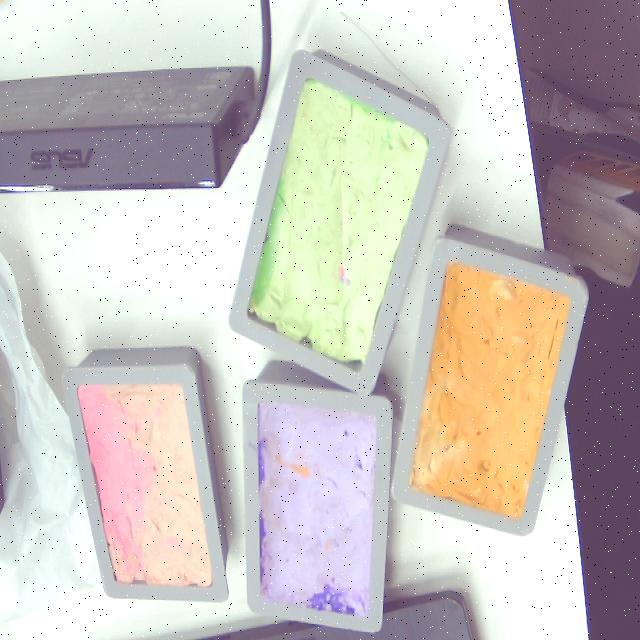block: (228, 48, 451, 399), (387, 227, 591, 544), (59, 348, 233, 608), (242, 373, 394, 634)
